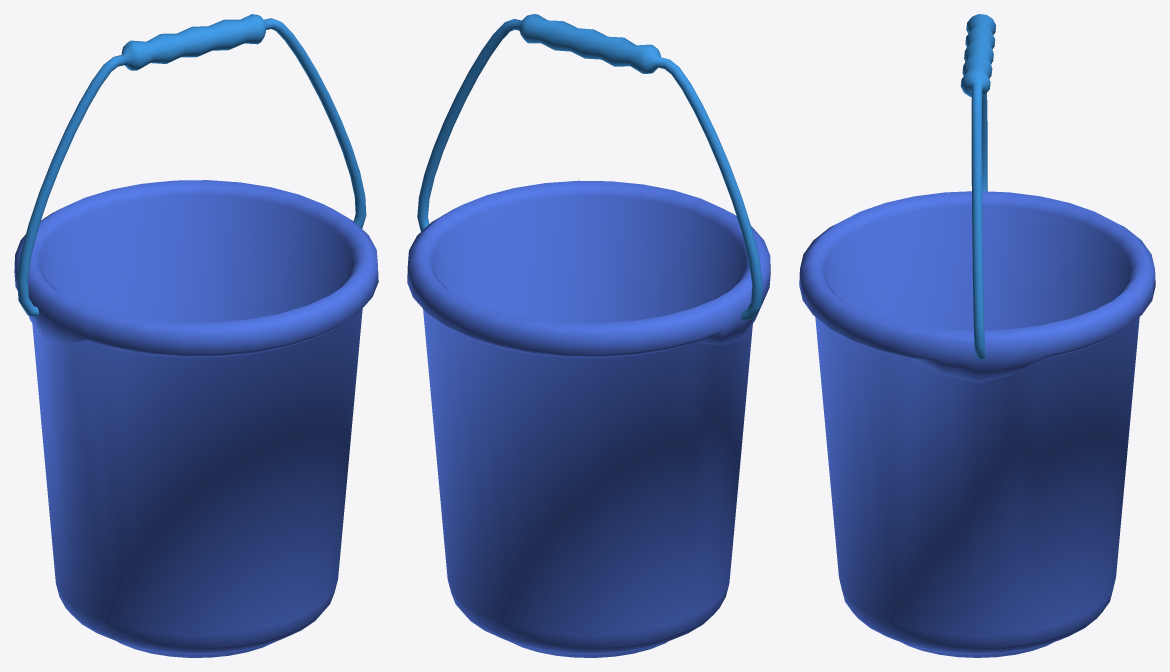
The model's file is baketu.fbx.
The picture shows the model from 3 angles, left to right: view 1: azimuth 30°, elevation 25°; view 2: azimuth 150°, elevation 25°; view 3: azimuth 270°, elevation 25°; orthographic projection. The views are drawn at different scales.
Parts seen in each view (by area): view 1: baketu; view 2: baketu; view 3: baketu.
Boxes of the visible parts, bbox=[...] form: baketu: bbox=[14, 14, 378, 657]; baketu: bbox=[407, 14, 770, 657]; baketu: bbox=[799, 14, 1155, 657].
Bounding box in the file's own units: 25.58 × 41.55 × 23.35.
